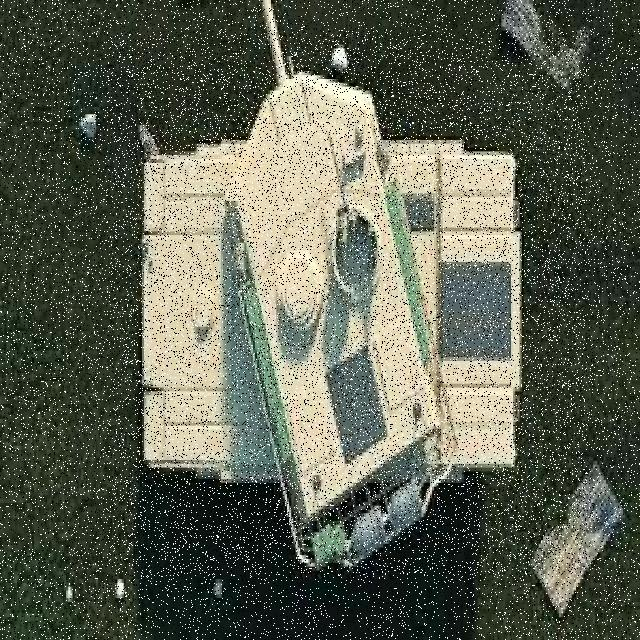MIL_MBT: (108, 32, 587, 576)
